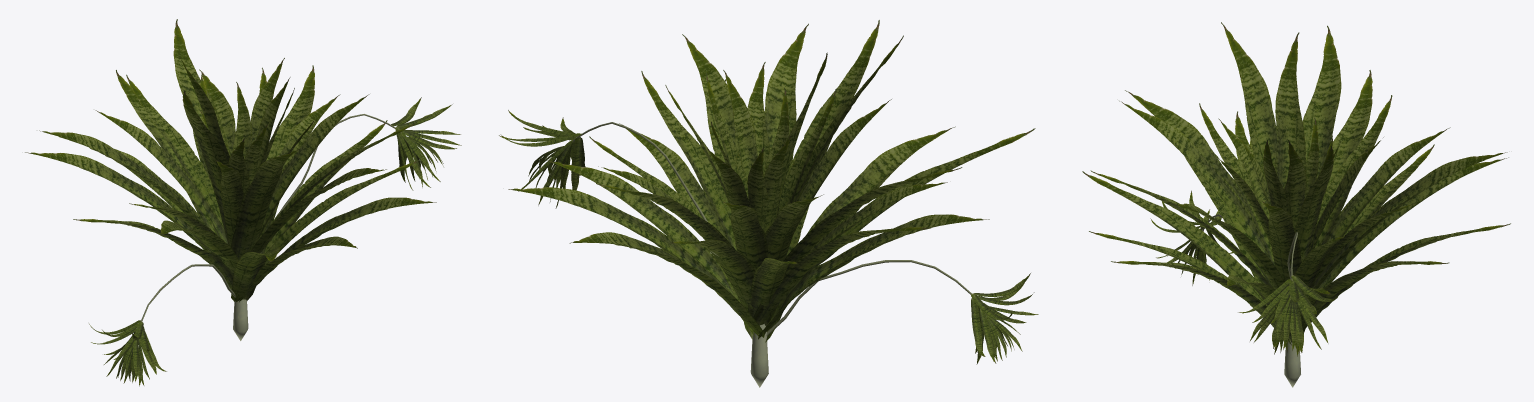
File: plantapicuda.glb
3 views of the same model, side by side, from view 1: azimuth 30°, elevation 25°; view 2: azimuth 150°, elevation 25°; view 3: azimuth 270°, elevation 25° (orthographic). The views are drawn at different scales.
Parts seen in each view (by area): view 1: Plant; view 2: Plant; view 3: Plant.
Part boxes in pixels (x1,y1,x2,y2): Plant: [25, 19, 461, 386]; Plant: [499, 20, 1038, 387]; Plant: [1082, 22, 1510, 387].
Size of the model in its own units: 0.37 by 0.2652 by 0.3241.
Materials: 3 (3 with a texture image).
